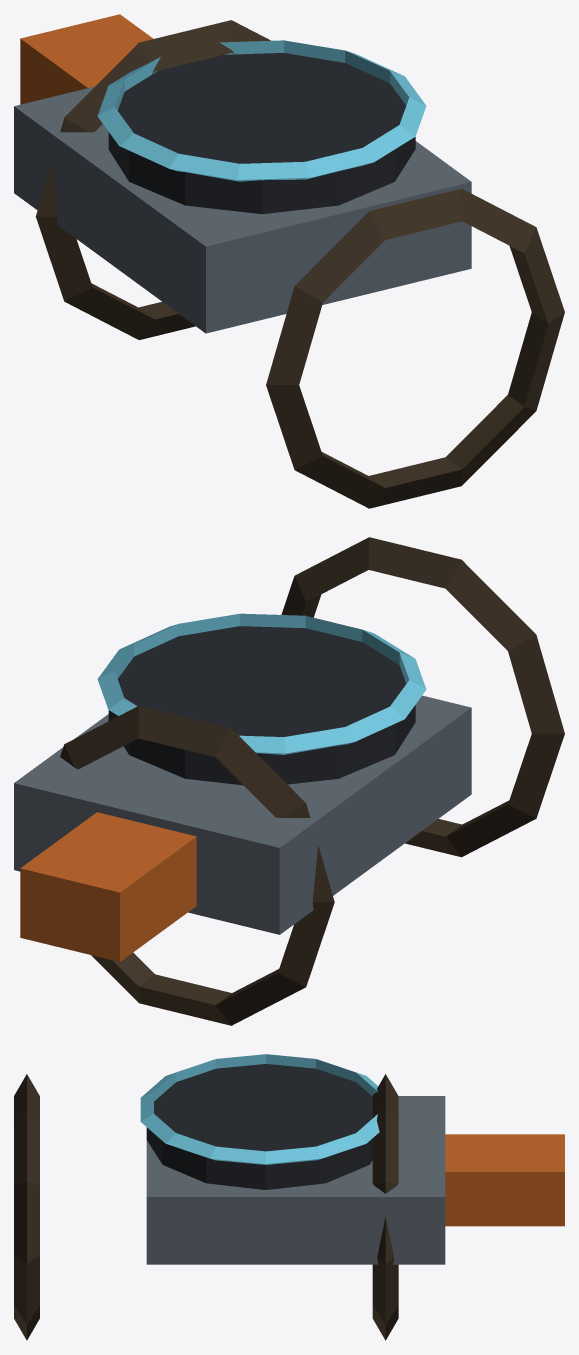
Rendered from light-shield-generator.glb.
The picture shows the model from 3 angles, top to bottom: view 1: azimuth 30°, elevation 25°; view 2: azimuth 150°, elevation 25°; view 3: azimuth 270°, elevation 25°; orthographic projection. The views are drawn at different scales.
Parts seen in each view (by area): view 1: m; view 2: m; view 3: m.
Boxes of the visible parts, x1=… form: m: x1=14, y1=14, x2=564, y2=508; m: x1=14, y1=537, x2=564, y2=1025; m: x1=14, y1=1054, x2=564, y2=1340.
Bounding box in the file's own units: 0.0586 × 0.0557 × 0.12.
